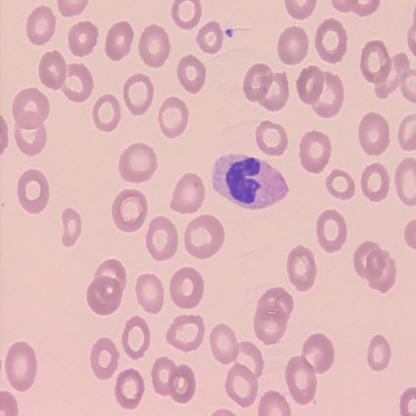Band Neutrophil: (211, 151, 290, 214)
